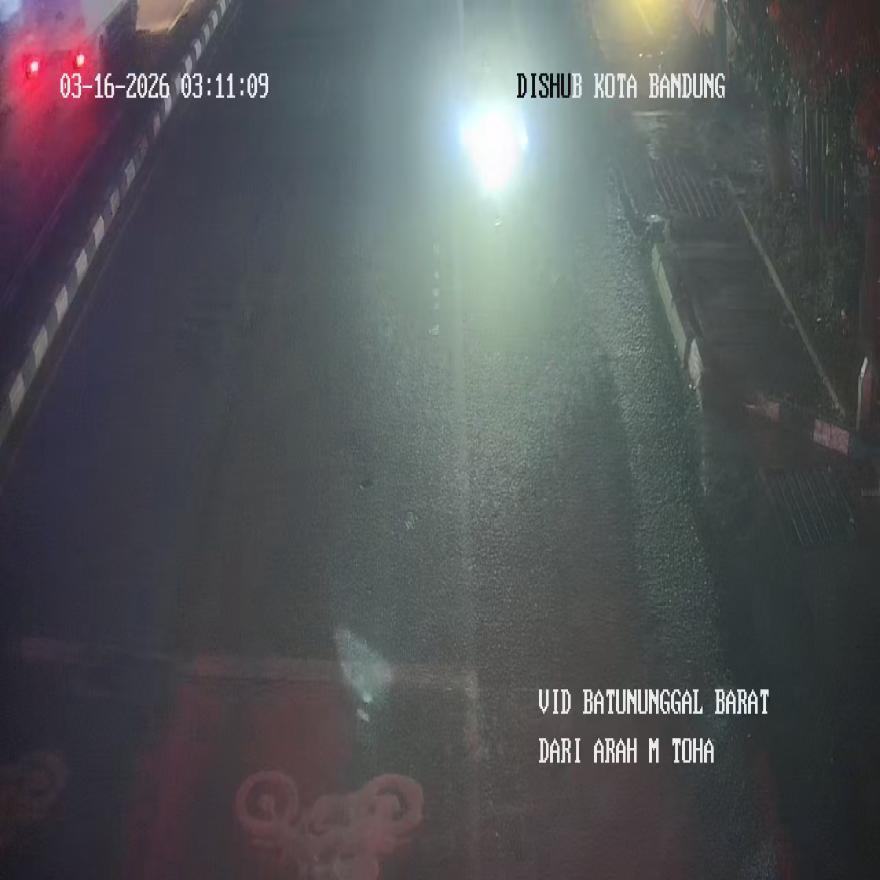Mobil: (459, 0, 528, 199)
Truk ringan: (0, 0, 138, 105)
